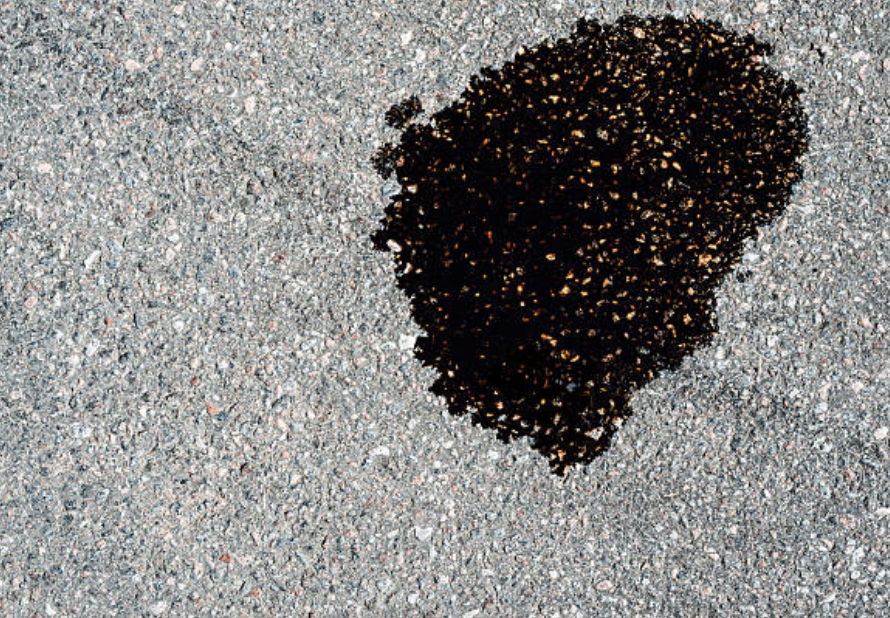oil: (186, 7, 405, 237)
